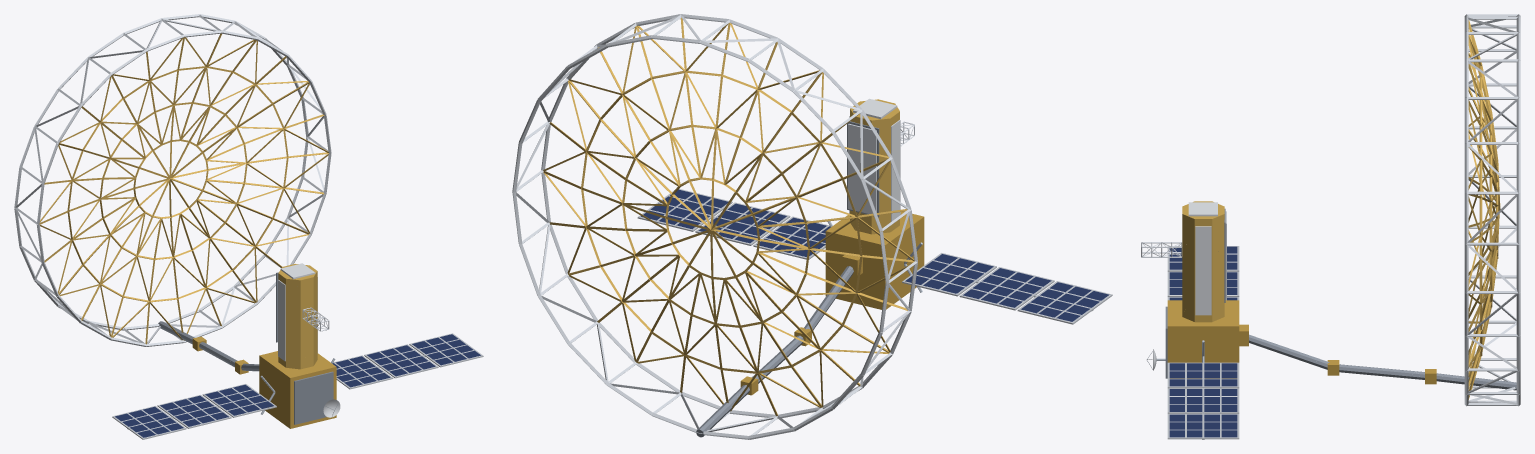
File: nisar.glb
The picture shows the model from 3 angles, left to right: view 1: azimuth 30°, elevation 25°; view 2: azimuth 150°, elevation 25°; view 3: azimuth 270°, elevation 25°; orthographic projection. The views are drawn at different scales.
Parts seen in each view (by area): view 1: foil, body, solar-panel; view 2: foil, body, solar-panel; view 3: body, foil, solar-panel.
Boxes of the visible parts, <box> form: foil: <box>39,33,336,428</box>; body: <box>14,14,483,439</box>; solar-panel: <box>115,334,480,437</box>; foil: <box>543,17,924,416</box>; body: <box>512,14,1112,439</box>; solar-panel: <box>641,189,1109,321</box>; body: <box>1141,14,1520,439</box>; foil: <box>1167,20,1500,399</box>; solar-panel: <box>1169,246,1237,437</box>.
Bounding box in the file's own units: 14 × 12.19 × 11.68.
